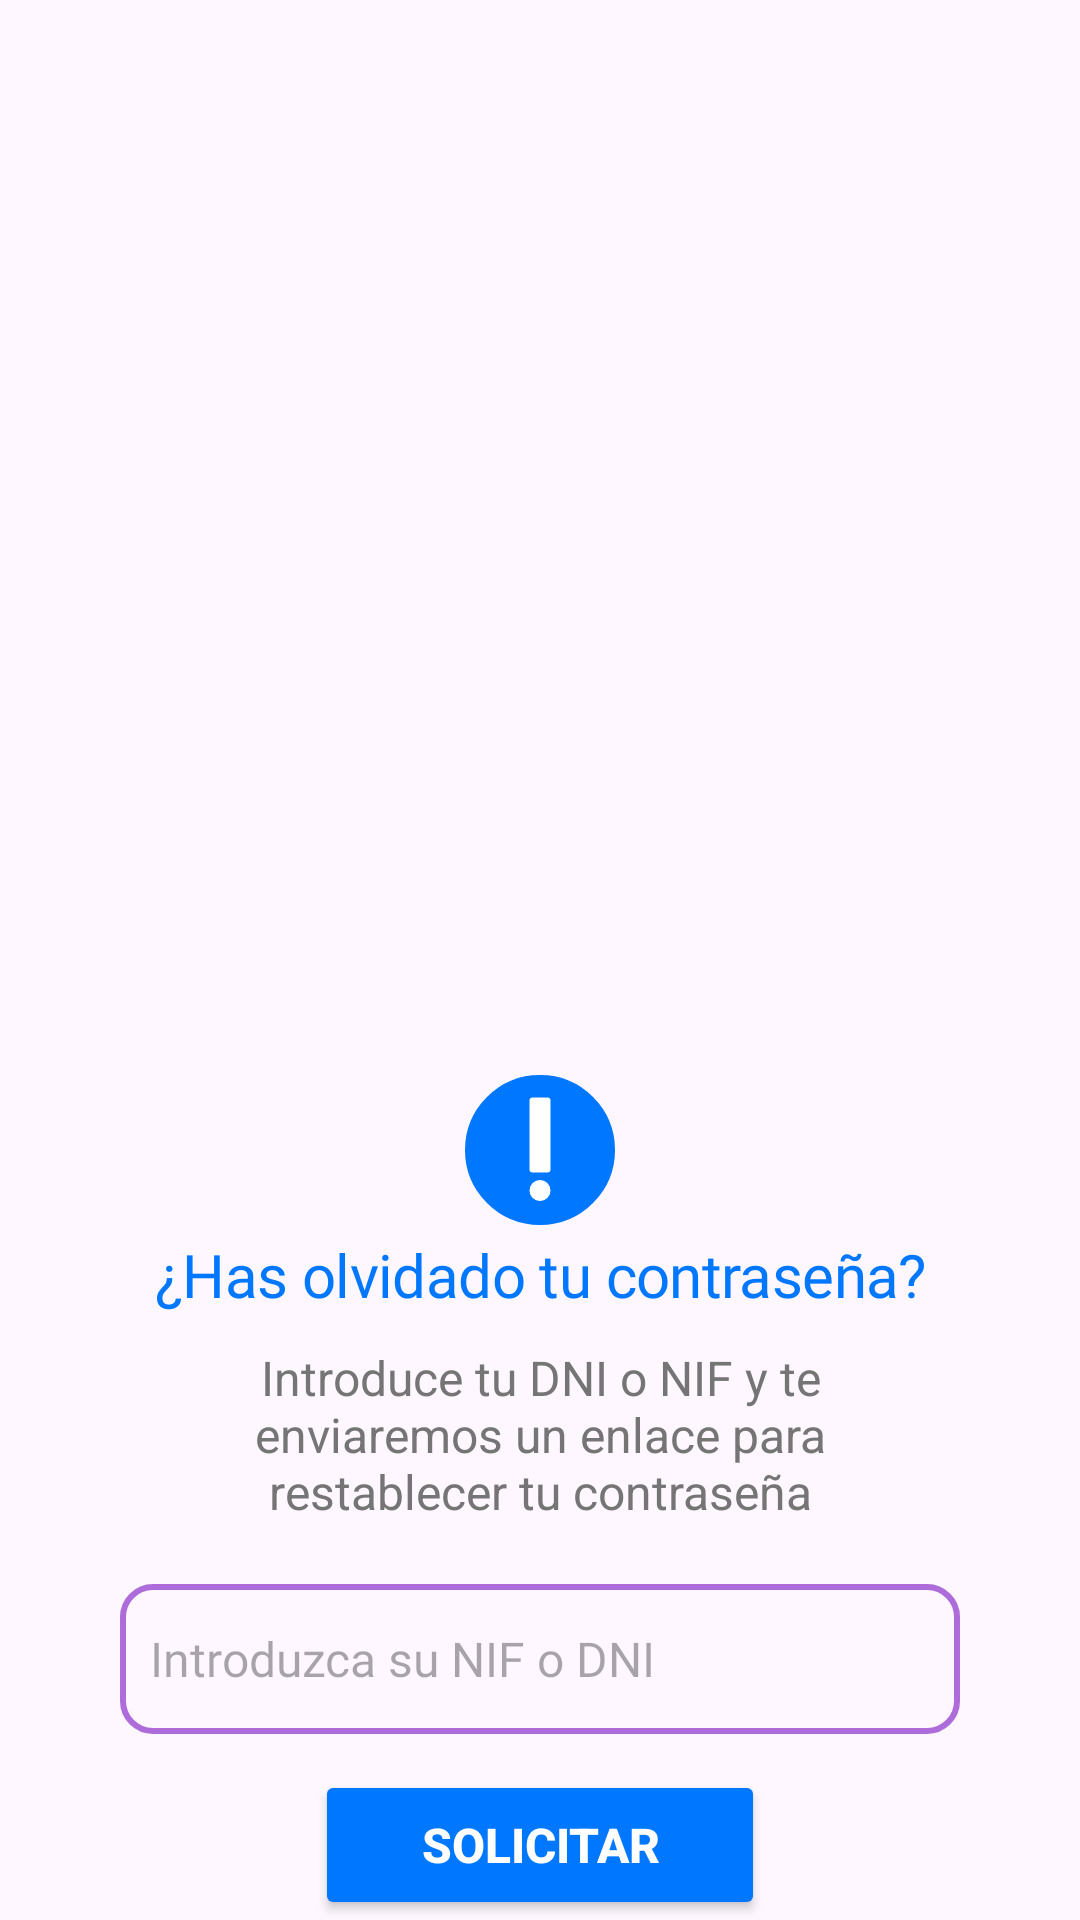

Screen size 1080px x 1920px. Icon name, then its box in pixels as (x1, y1, x2, y2):
info: (465, 1075, 615, 1225)
